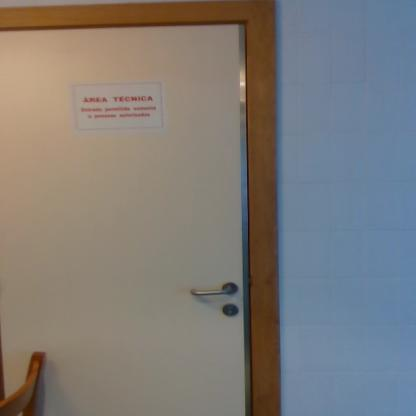closed: (0, 2, 299, 416)
